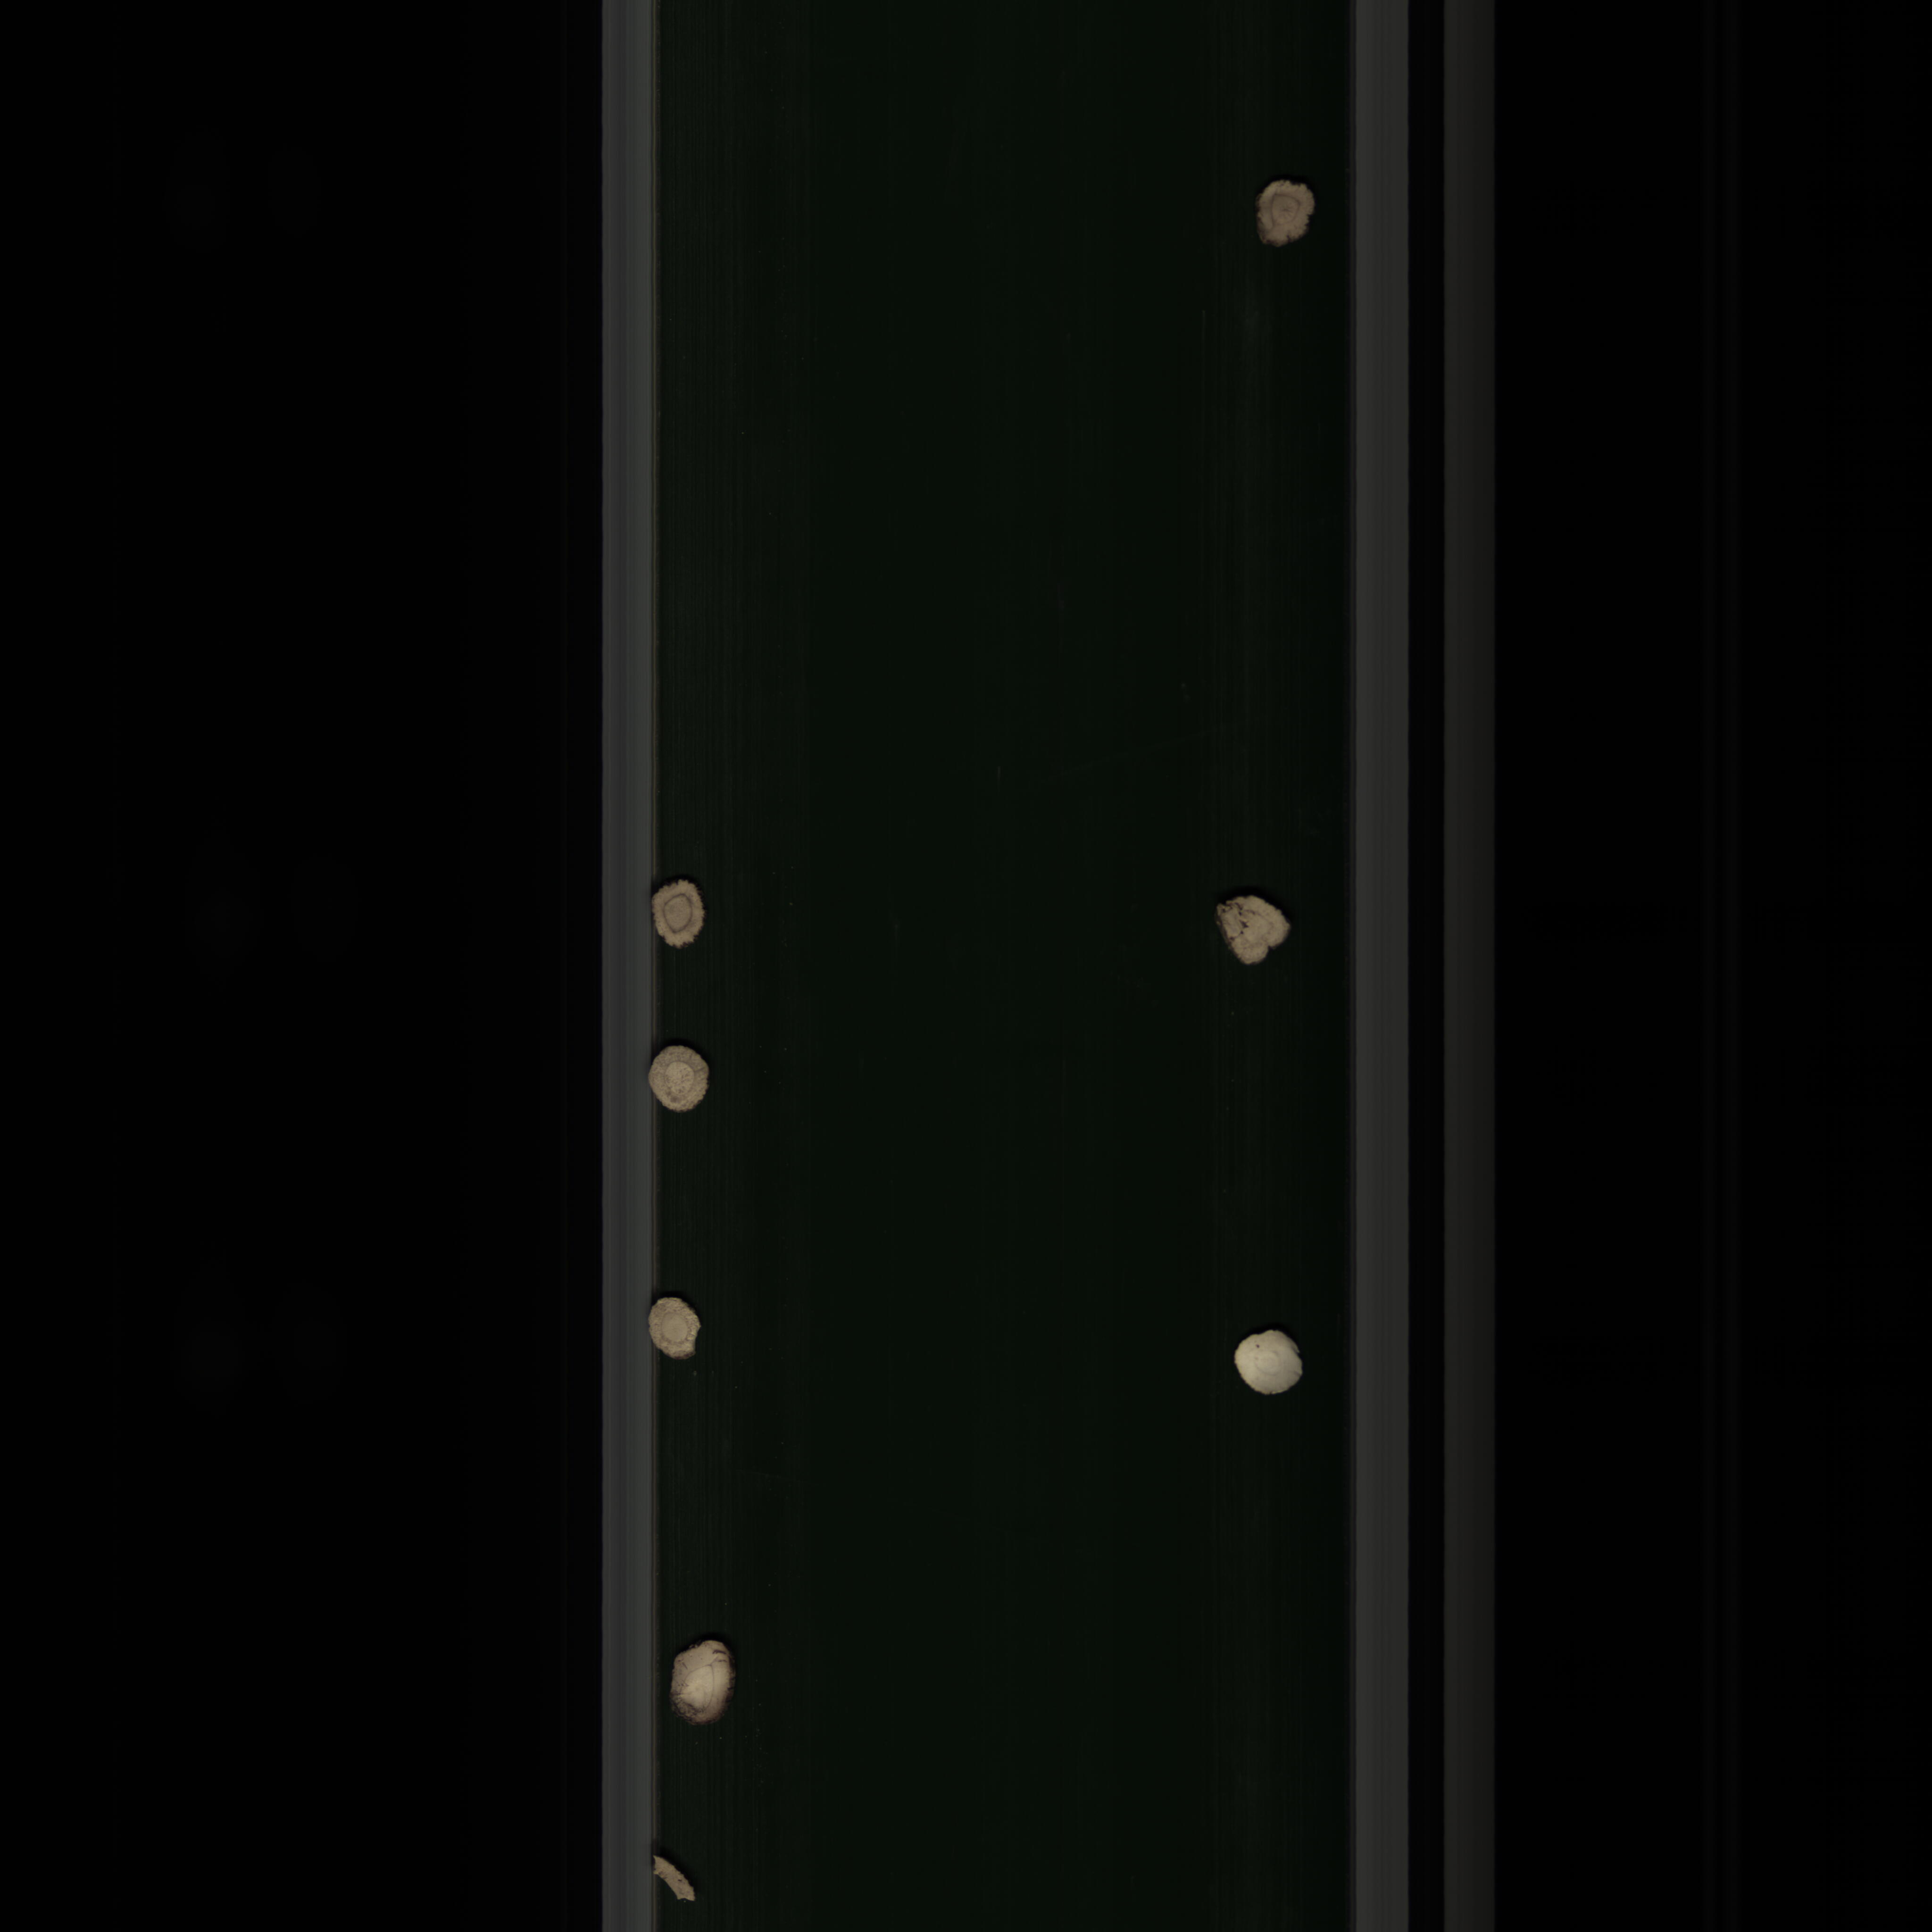bark: (646, 1852, 706, 1913)
hole: (1210, 892, 1297, 973)
moldy: (1253, 175, 1320, 255)
